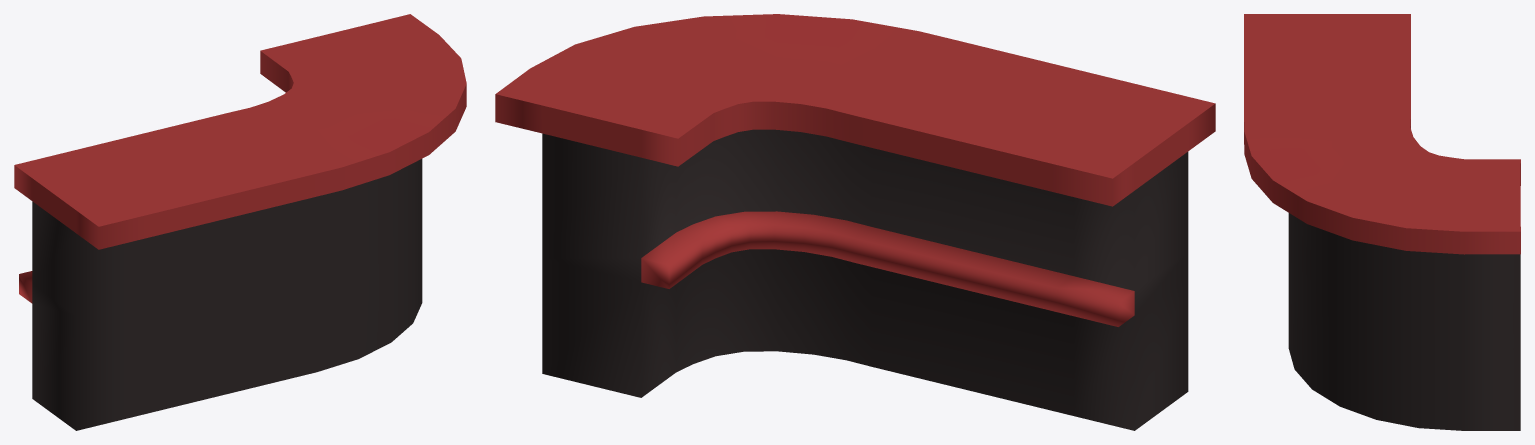
3 renders of one model, left to right at view 1: azimuth 30°, elevation 25°; view 2: azimuth 150°, elevation 25°; view 3: azimuth 270°, elevation 25°, orthographic. The views are drawn at different scales.
Parts seen in each view (by area): view 1: JBar.008; view 2: JBar.008; view 3: JBar.008.
Part boxes in pixels (x1,y1,x2,y2): JBar.008: (14, 14, 466, 430); JBar.008: (495, 14, 1215, 430); JBar.008: (1244, 14, 1520, 430).
Size of what is drawn, in the model's own units: 2.21 by 1.03 by 1.19.
1 material, 1 textured.
